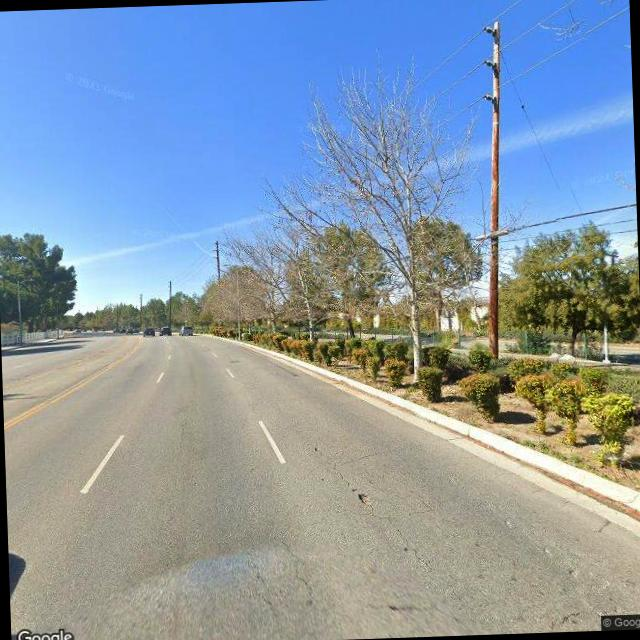crack: (321, 452, 439, 574)
